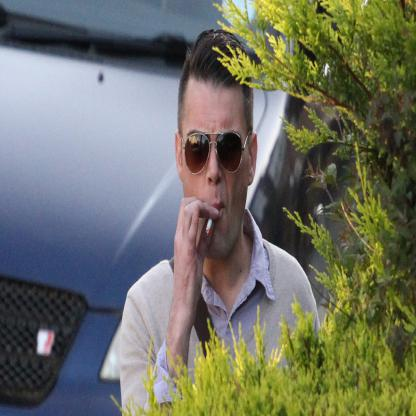smoking: (206, 211, 214, 235)
